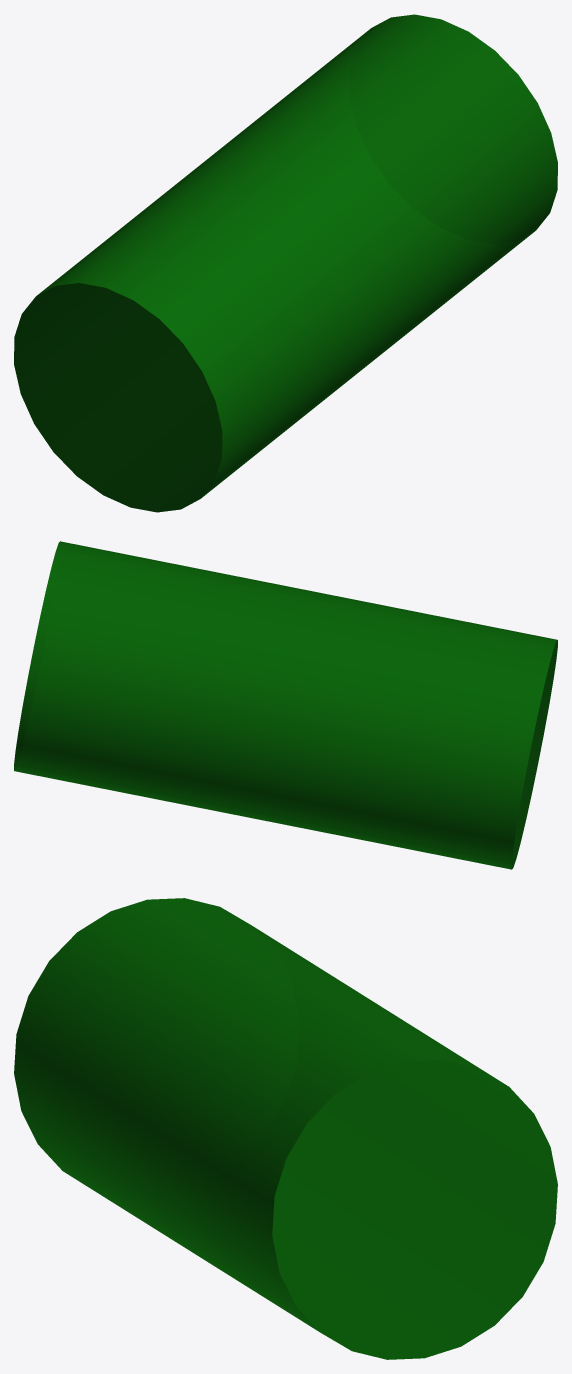
Rendered from Event_127732675_jet_7.fbx.
The picture shows the model from 3 angles, top to bottom: view 1: azimuth 30°, elevation 25°; view 2: azimuth 150°, elevation 25°; view 3: azimuth 270°, elevation 25°; orthographic projection. The views are drawn at different scales.
Parts seen in each view (by area): view 1: Model; view 2: Model; view 3: Model.
Part boxes in pixels (x1,y1,x2,y2): Model: [14, 14, 557, 512]; Model: [14, 541, 557, 869]; Model: [14, 898, 557, 1359].
Bounding box in the file's own units: 0.0952 × 0.0531 × 0.0701.
